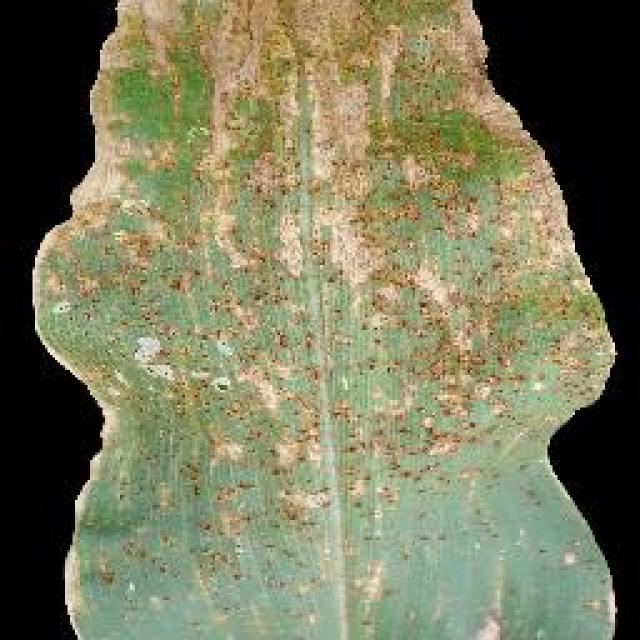Corn Common Rust: (122, 62, 535, 538)
